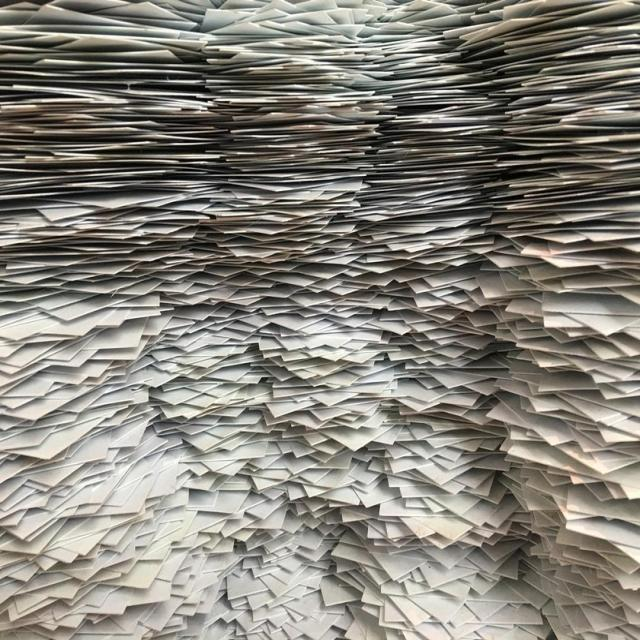Kertas: (31, 60, 468, 571)
